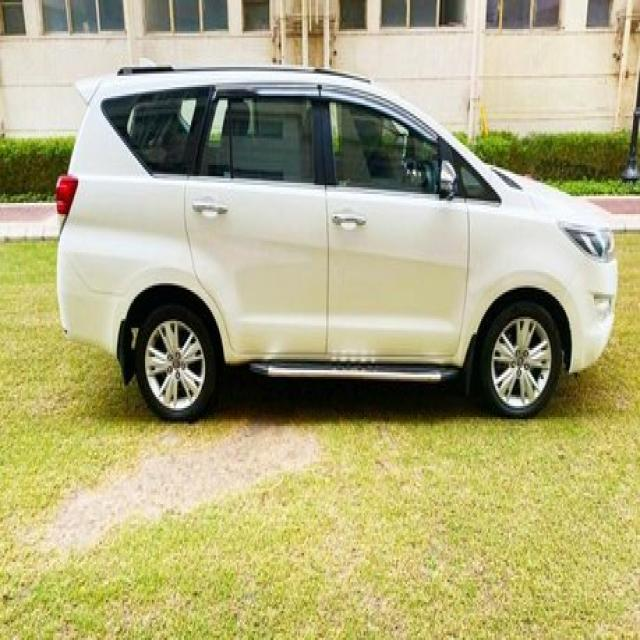light_vehicle: (53, 64, 620, 423)
